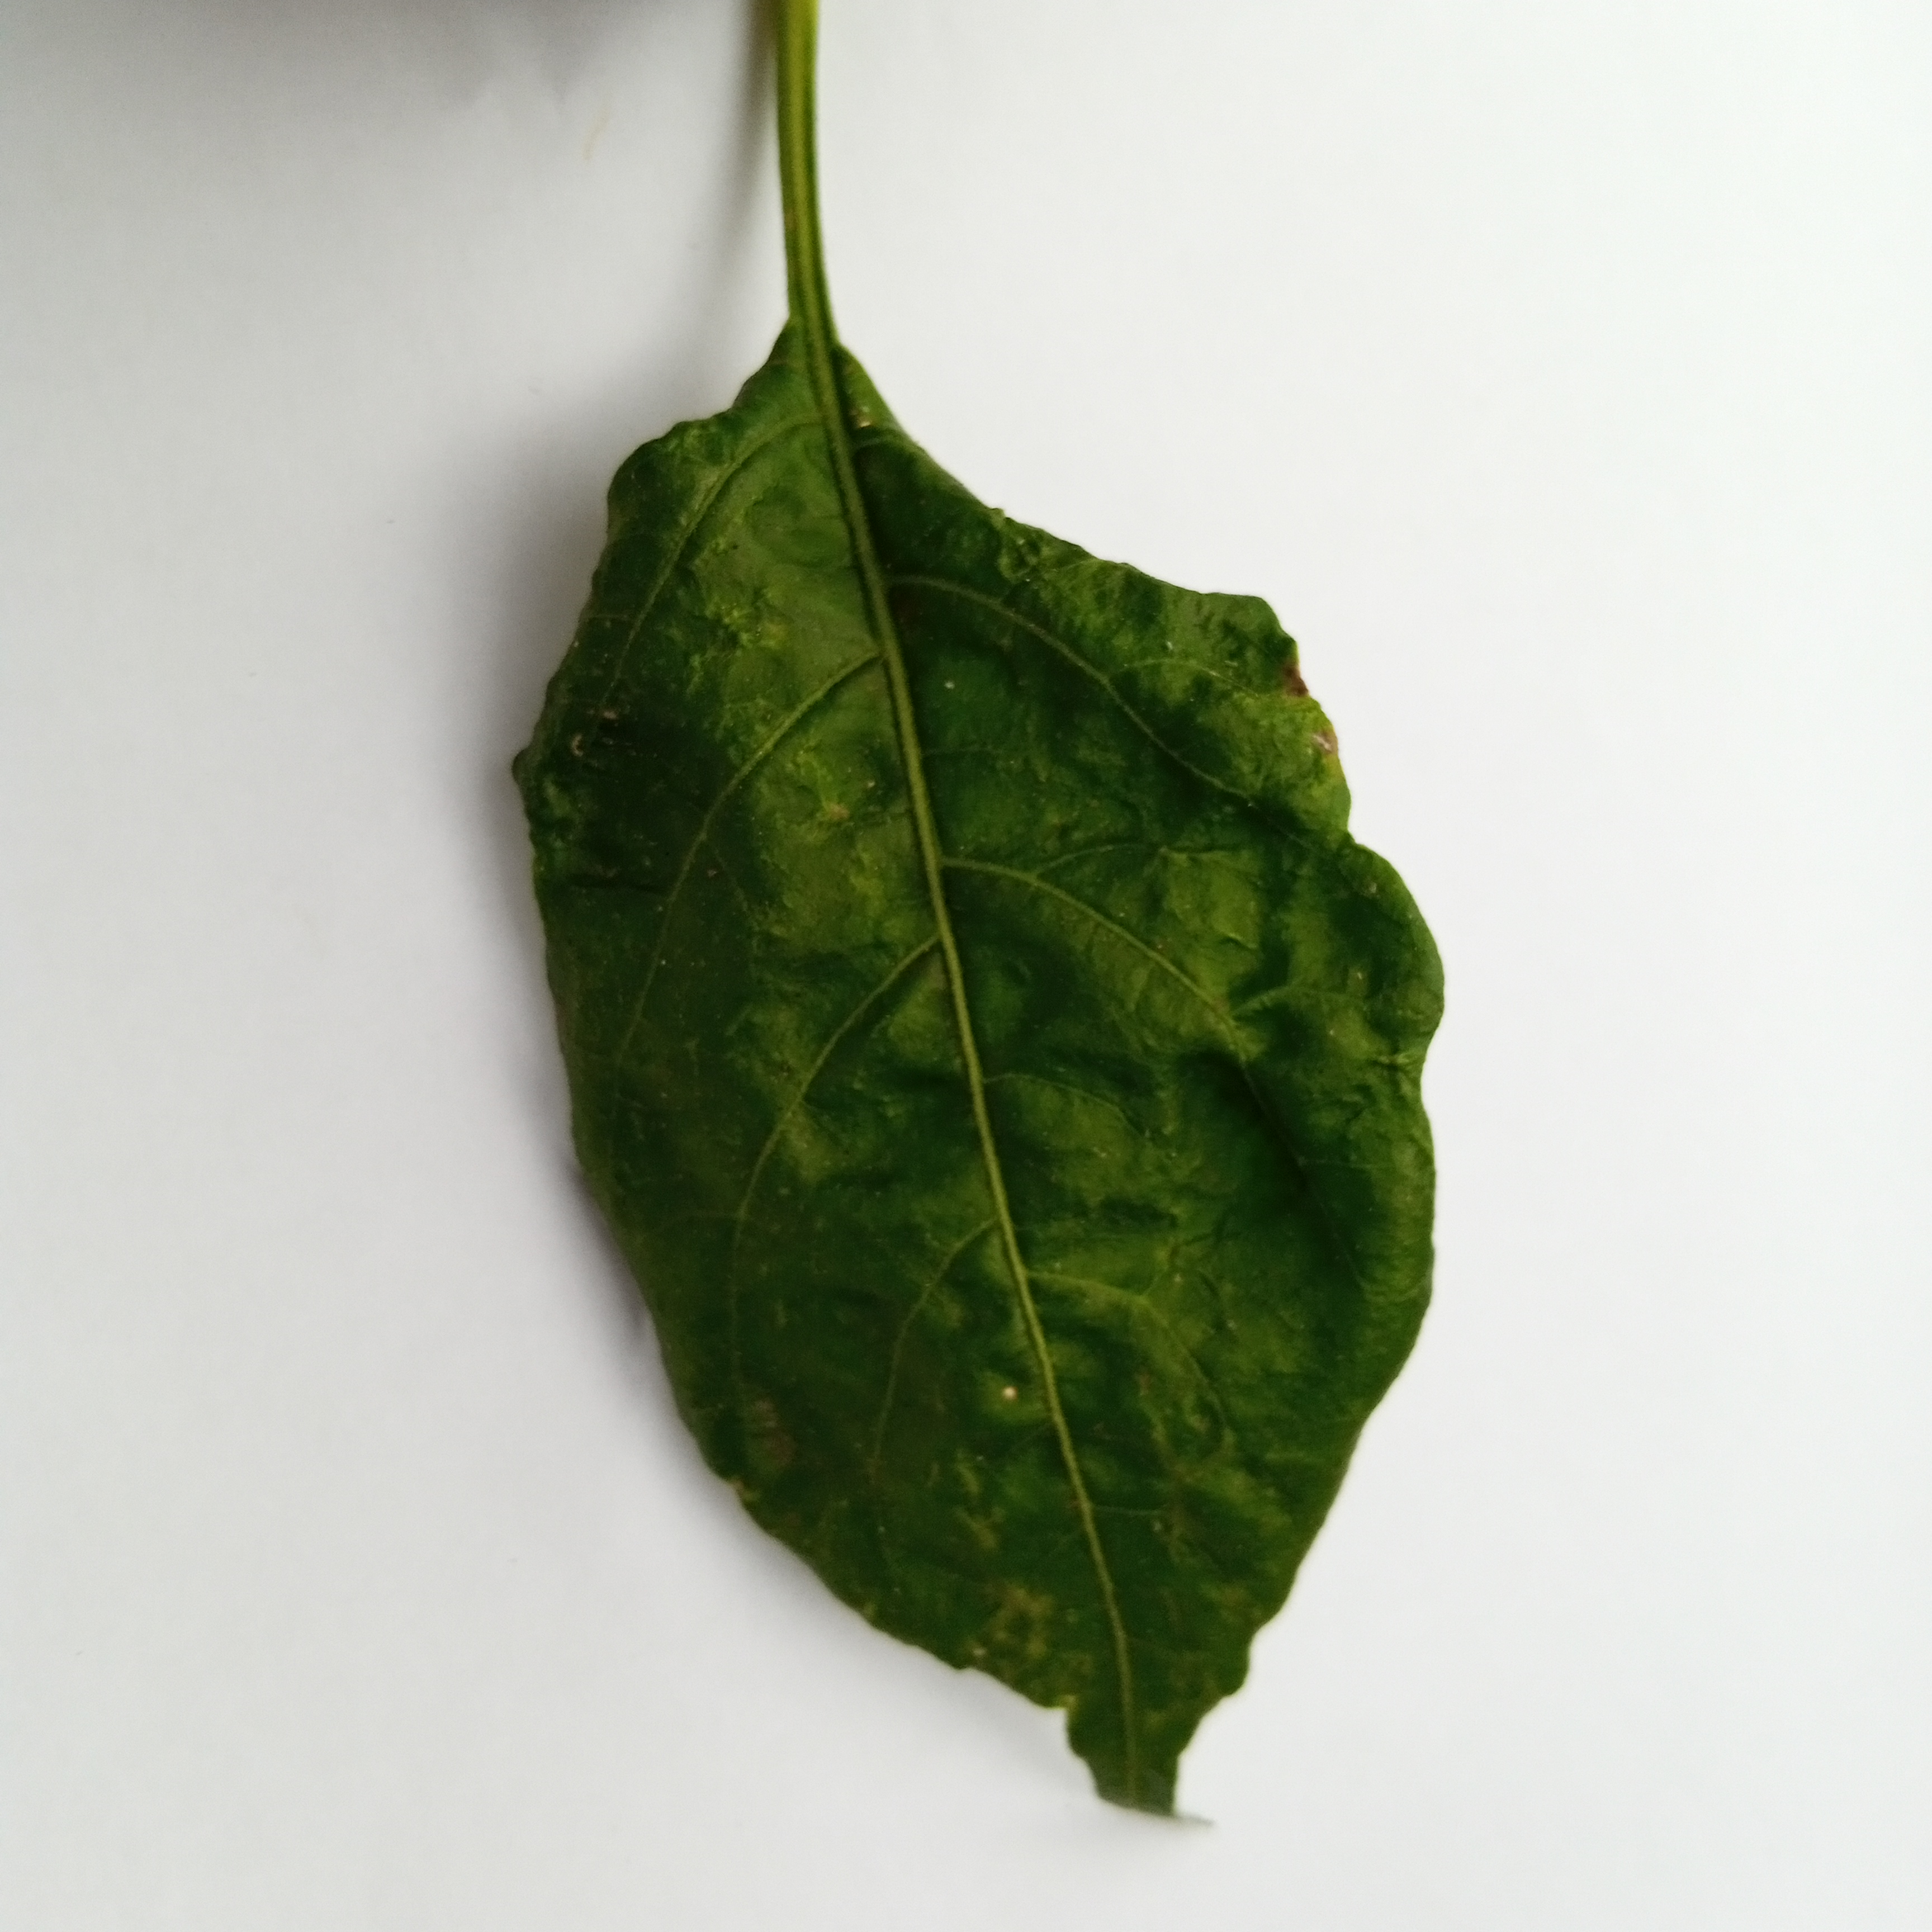Leaf: (398, 262, 1560, 1858)
